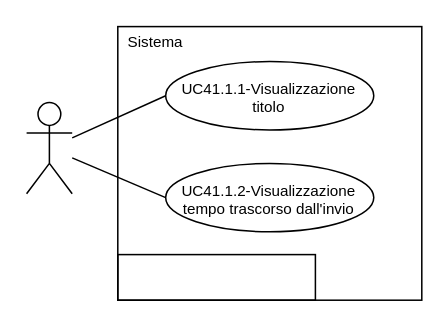
The diagram is 448 pixels wide and 327 high, and some of its shapes have lost their labels. The centre of each missing label's shape, as x and y in pixels:
UC41.1-Visualizzazione elemento elenco notifiche: point 215,276
Utente: point 48,147
